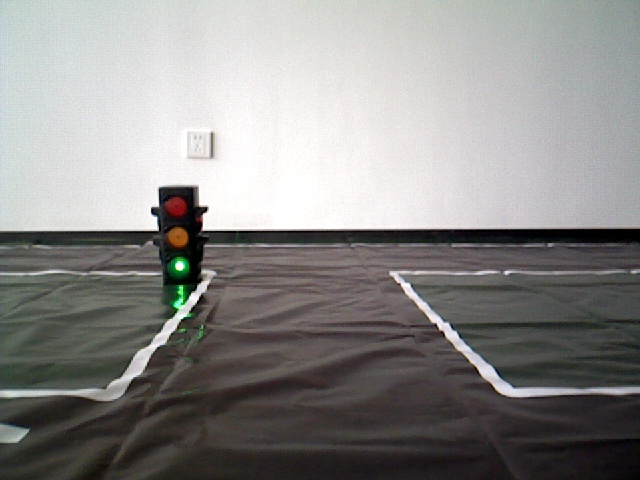green: (160, 187, 198, 278)
